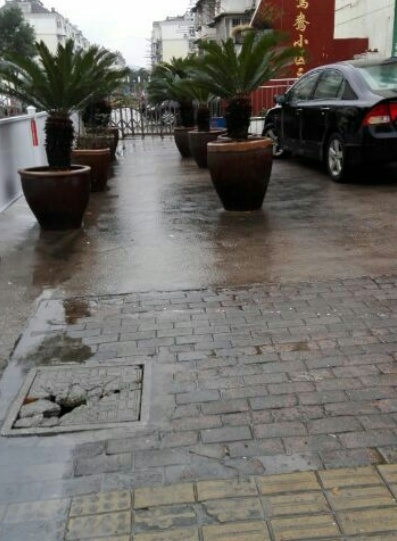broke: (3, 360, 150, 437)
